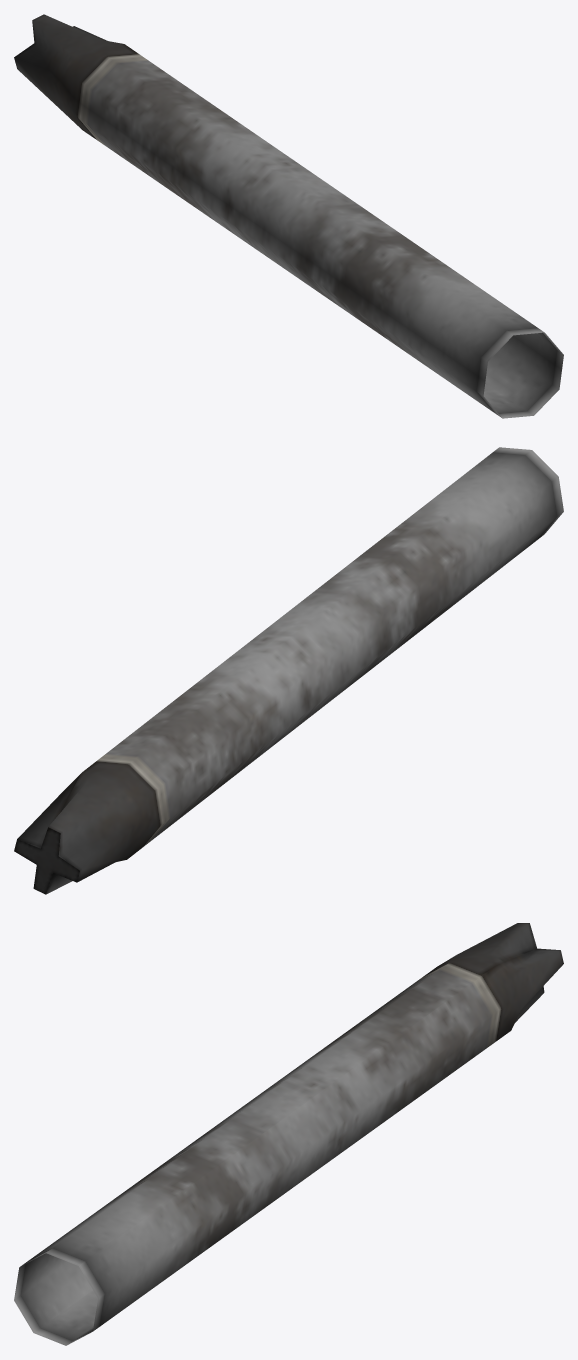
Rendered from Screwdriver_S_Shaft_low_2.obj.
3 renders of one model, top to bottom at view 1: azimuth 30°, elevation 25°; view 2: azimuth 150°, elevation 25°; view 3: azimuth 330°, elevation 25°, orthographic. The views are drawn at different scales.
Size of the model in its own units: 0.00454 by 0.00475 by 0.042.
Materials: 1 (1 with a texture image).
